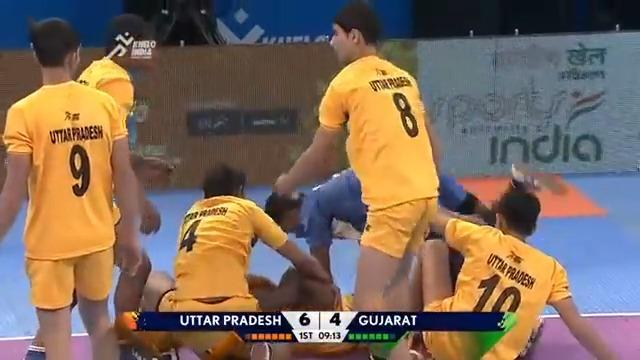Player: (264, 2, 442, 358), (1, 15, 142, 357), (419, 177, 618, 357), (164, 154, 257, 338), (90, 8, 151, 139)
